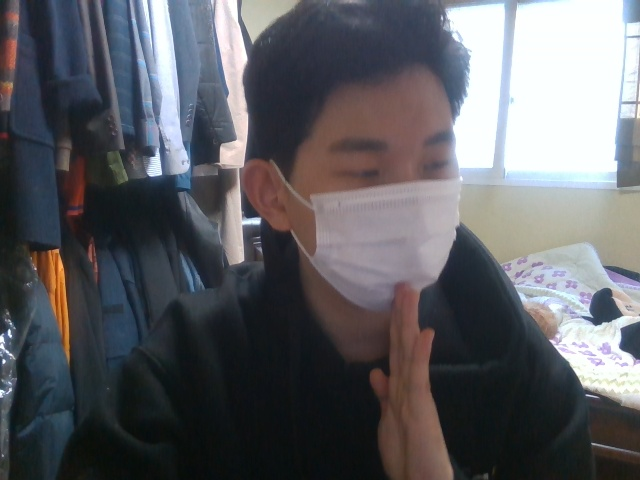Right: (343, 264, 454, 458)
